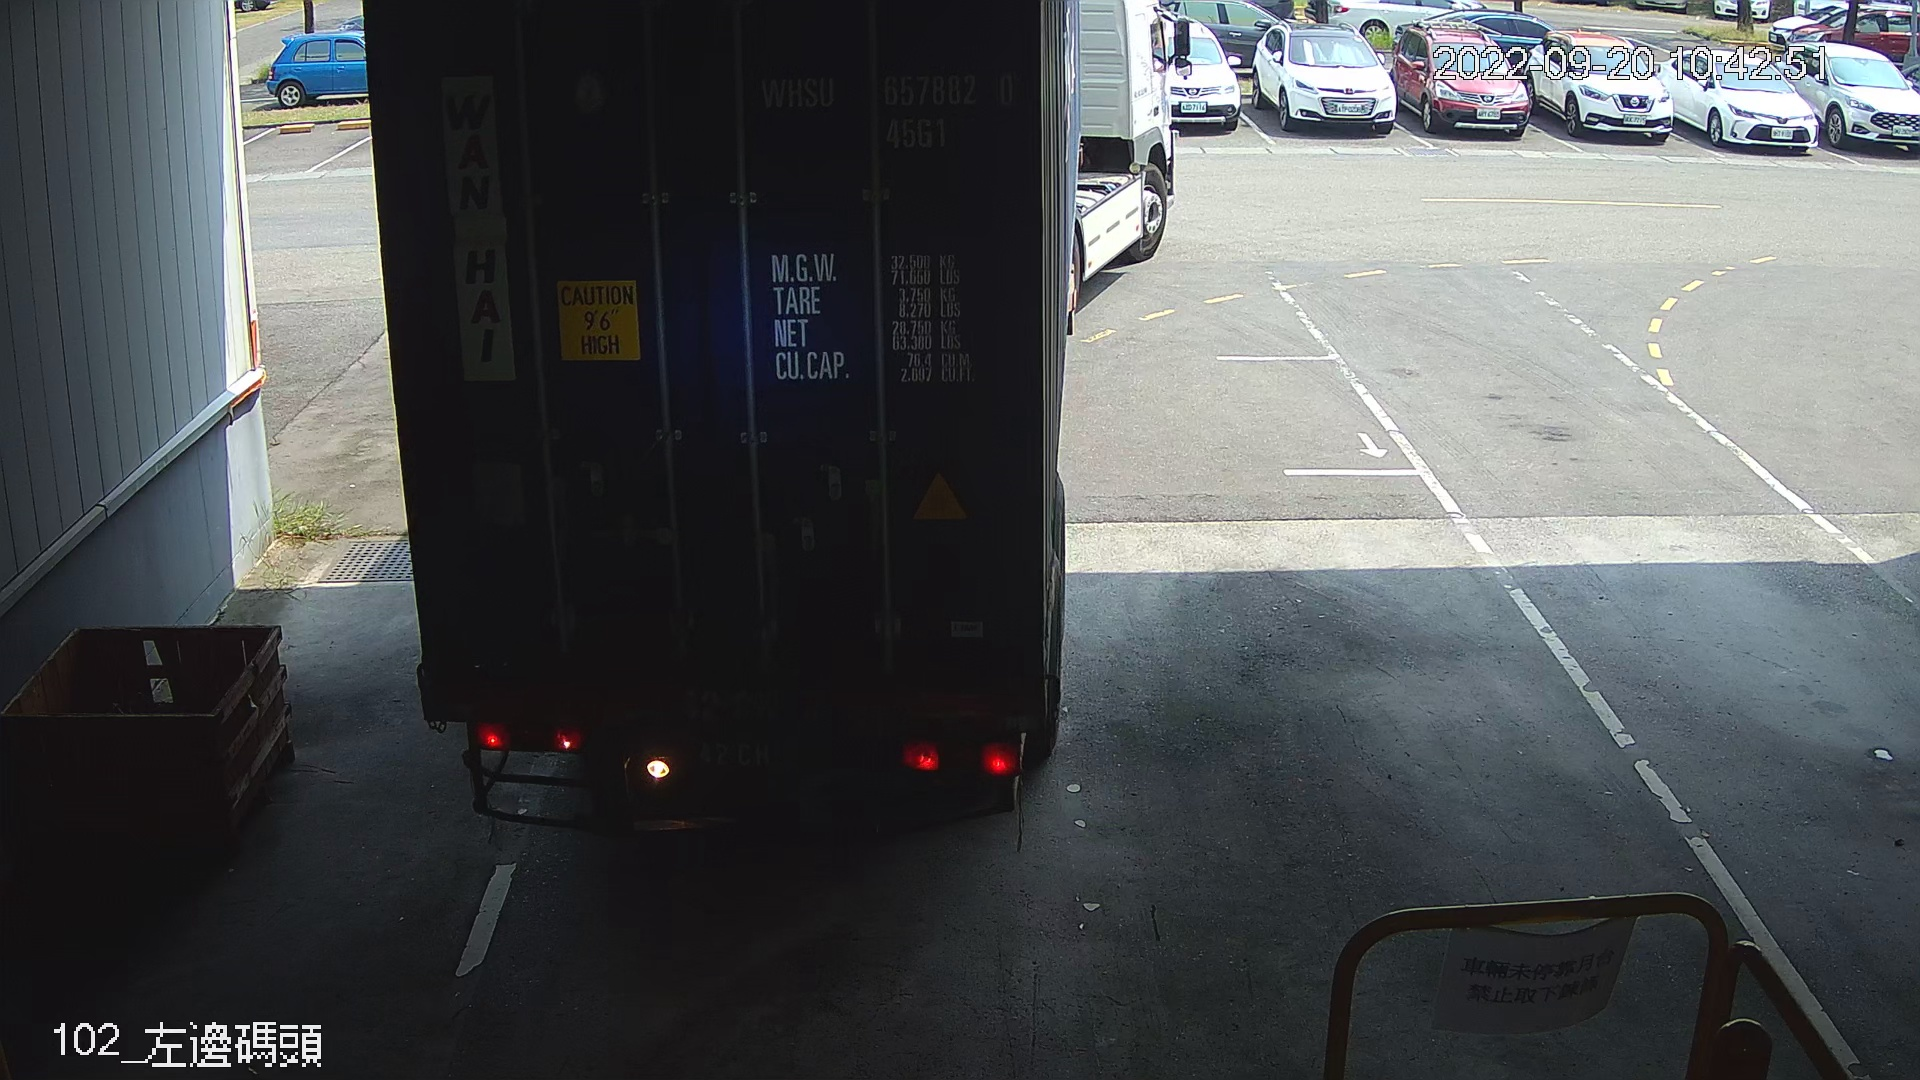container: (748, 61, 1029, 161)
